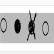correct: (14, 18, 22, 35)
not correct: (27, 9, 37, 43)
